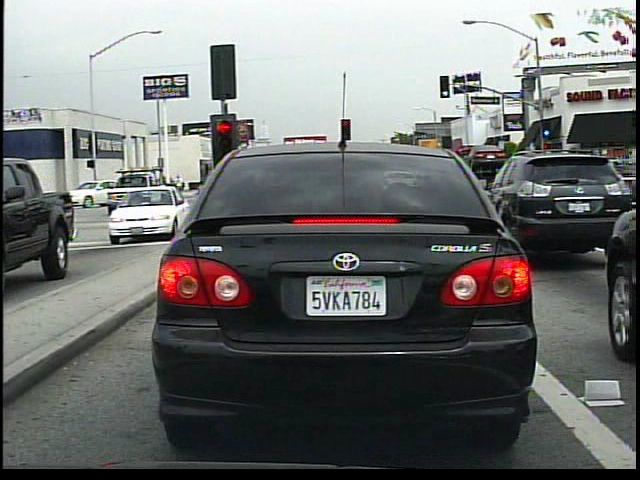person: (170, 169, 191, 194)
